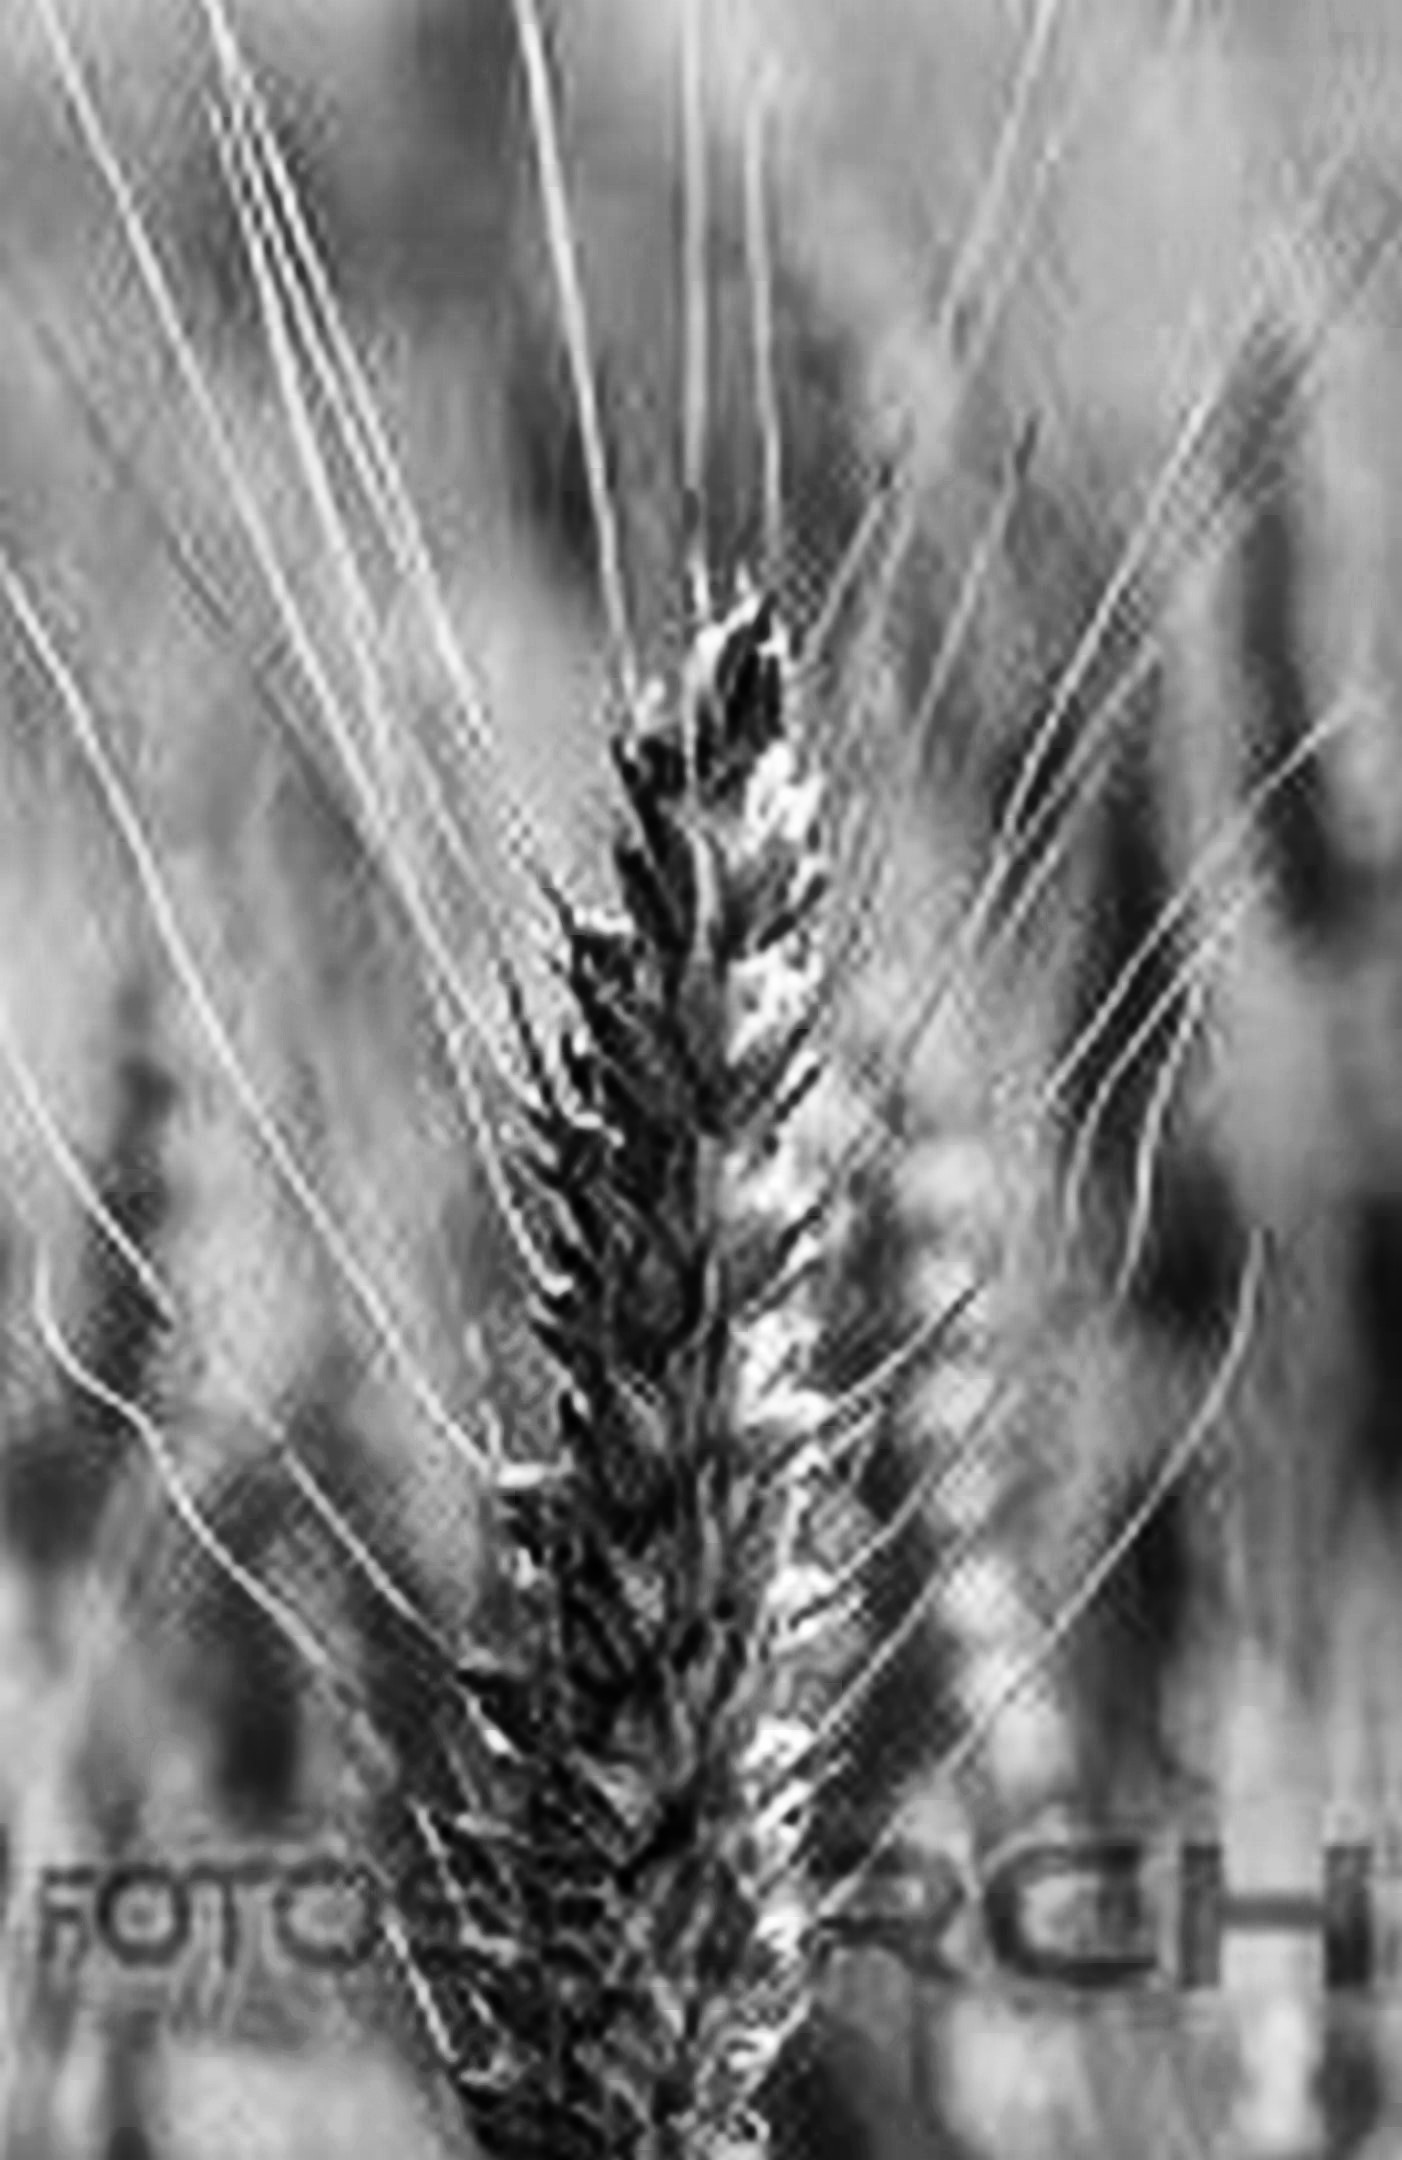Healthy Wheat: (439, 584, 886, 2105)
